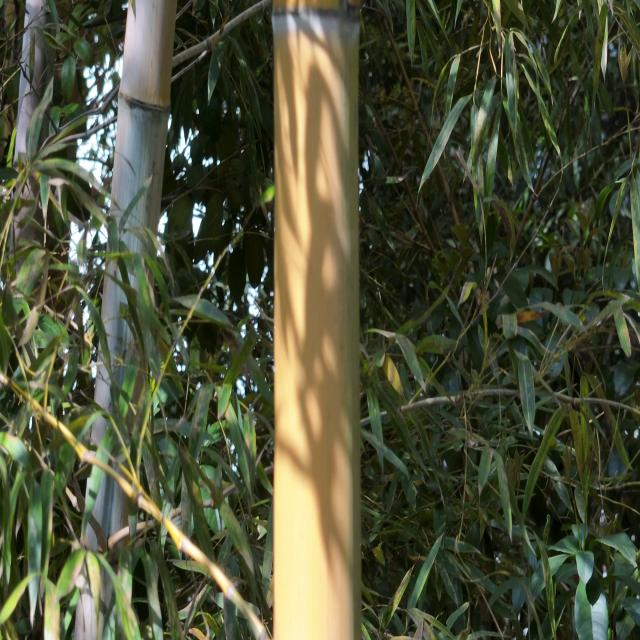Bamboo-shoots: (273, 0, 361, 640)
